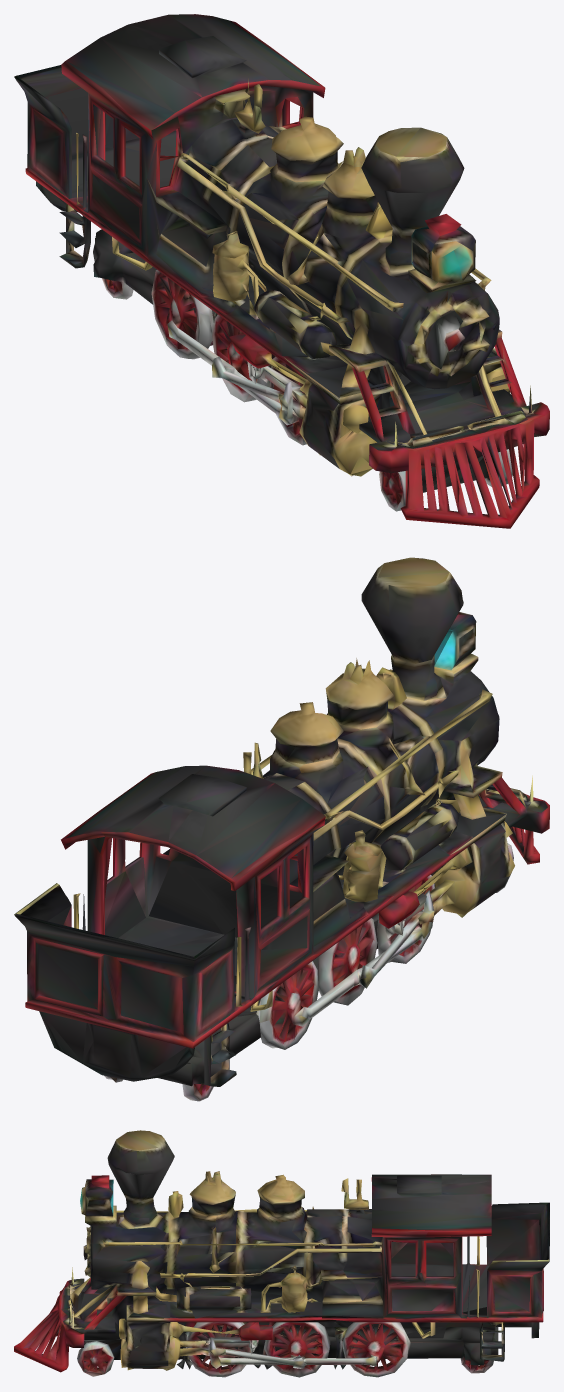
File: prop_gulch_loco.glb
3 views of the same model, one above another, from view 1: azimuth 30°, elevation 25°; view 2: azimuth 150°, elevation 25°; view 3: azimuth 270°, elevation 25° (orthographic). The views are drawn at different scales.
Visible parts, largest first — view 1: tripo_node_c32e47b0-b926-41cd-9883-2c90a019e5f4; view 2: tripo_node_c32e47b0-b926-41cd-9883-2c90a019e5f4; view 3: tripo_node_c32e47b0-b926-41cd-9883-2c90a019e5f4.
Part boxes in pixels (x1=…): tripo_node_c32e47b0-b926-41cd-9883-2c90a019e5f4: x1=14, y1=14, x2=549, y2=528; tripo_node_c32e47b0-b926-41cd-9883-2c90a019e5f4: x1=14, y1=557, x2=549, y2=1101; tripo_node_c32e47b0-b926-41cd-9883-2c90a019e5f4: x1=14, y1=1130, x2=549, y2=1377.
Size of the model in its own units: 0.2558 by 0.4455 by 0.9851.
Materials: 1 (1 with a texture image).
